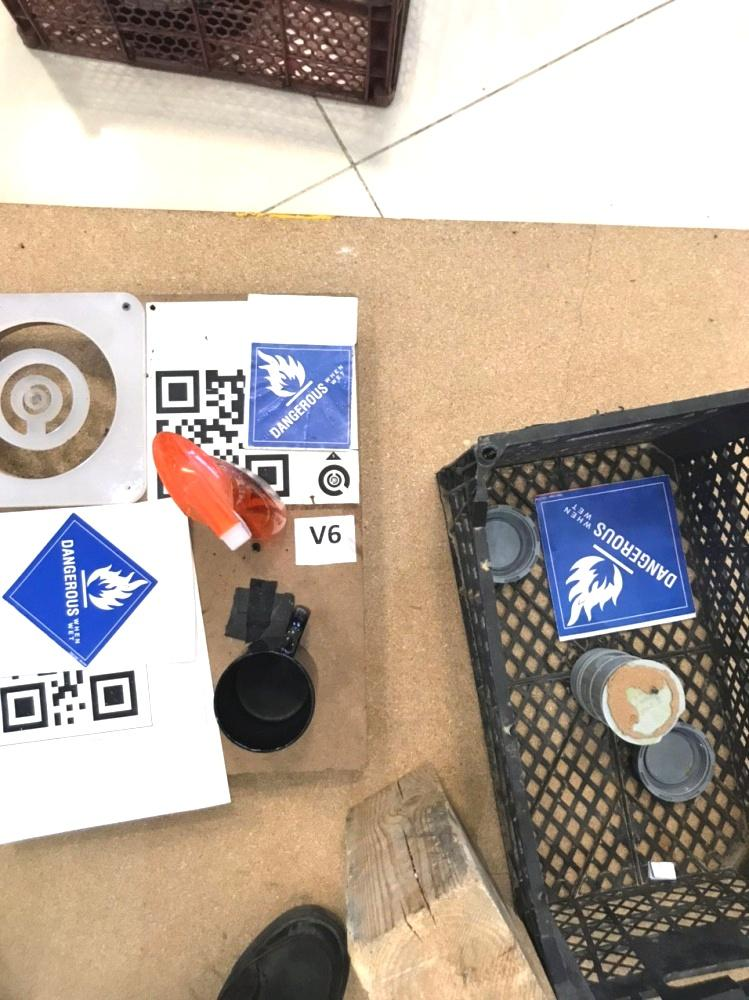dangerous-when-wet: (529, 474, 699, 641), (2, 509, 161, 667), (247, 341, 352, 451)
